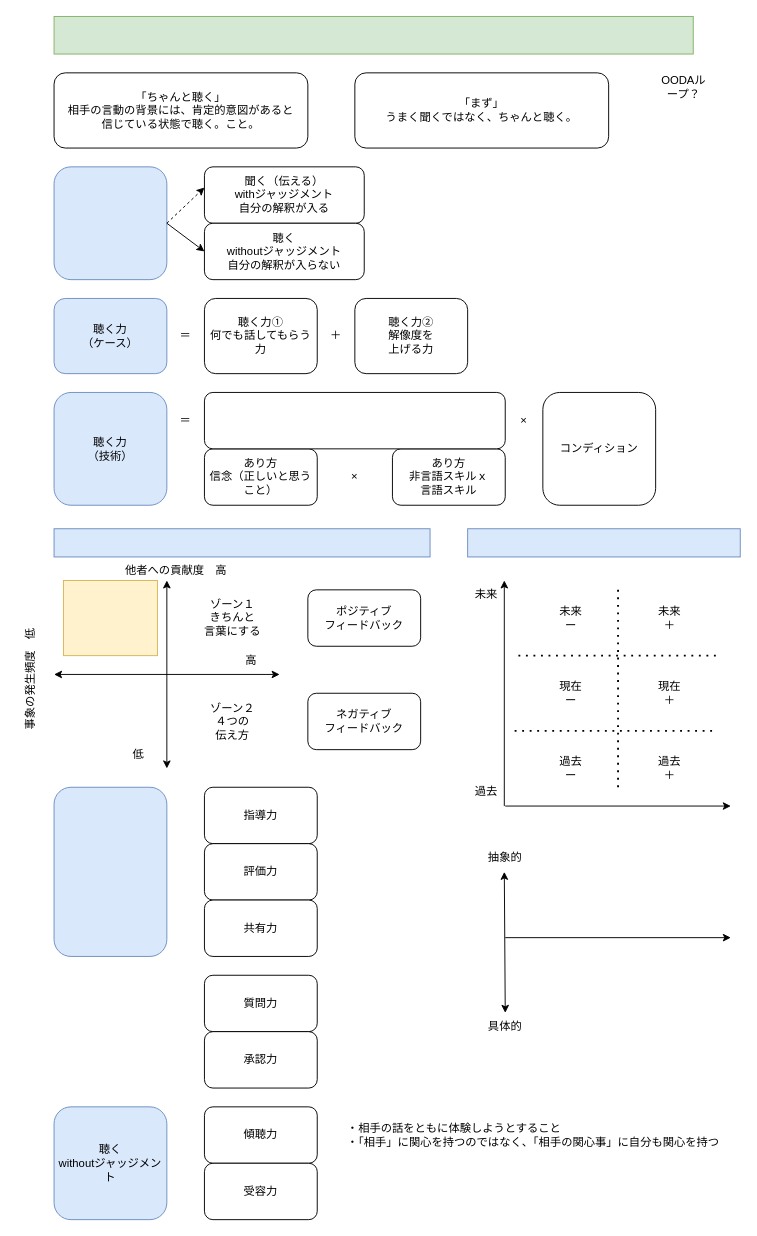
Image size: 757x1236. Some labels were removed from this diagram. The centre of each missing label's shape, as x and y in pixels:
Feedback Matrix: the point at 241,542
まず、ちゃんと聴く。: the point at 373,35
ゾーン３ 貢献を 見逃さない: the point at 110,618
聞く withジャッジメント: the point at 110,871
聴く: the point at 110,223
聴くMAP: the point at 603,542
聴く技術: the point at 354,420
